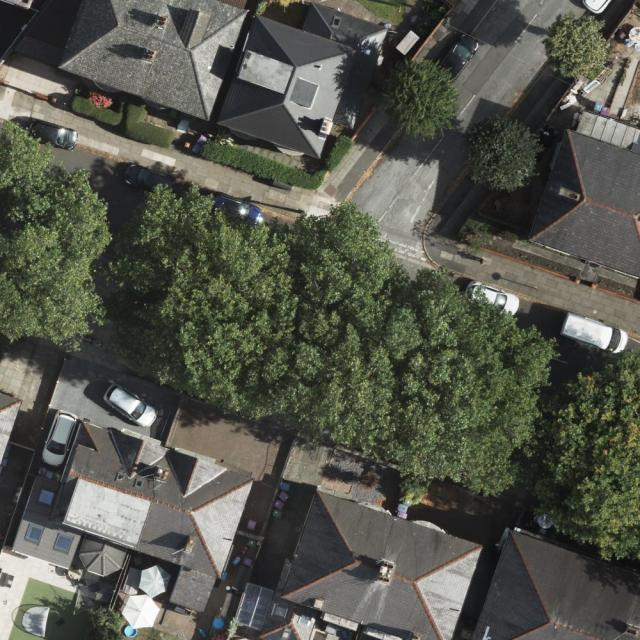roof: (58, 0, 390, 159), (10, 421, 255, 612), (237, 491, 484, 640), (524, 108, 640, 279), (474, 528, 640, 640), (0, 391, 21, 468)
skylight: (237, 582, 276, 630), (22, 523, 46, 547), (50, 532, 74, 553), (37, 490, 55, 507), (271, 605, 288, 619), (329, 12, 342, 30), (297, 614, 311, 627), (113, 472, 126, 483), (133, 477, 143, 489), (282, 628, 291, 639)
